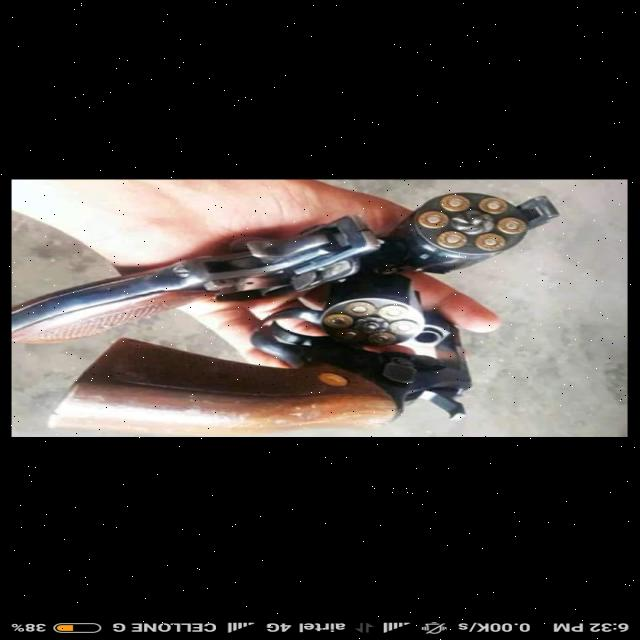gun: (24, 279, 572, 438)
